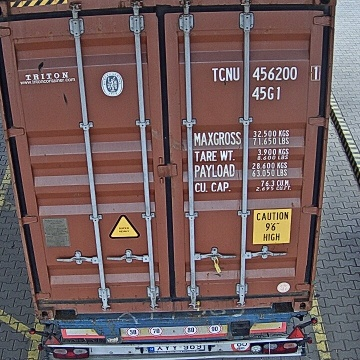serial_id: (212, 65, 320, 81)
